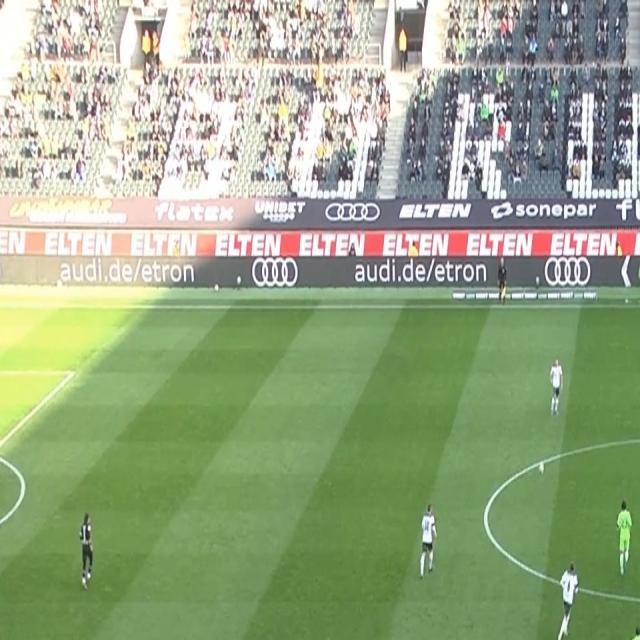ball: (537, 461, 545, 474)
